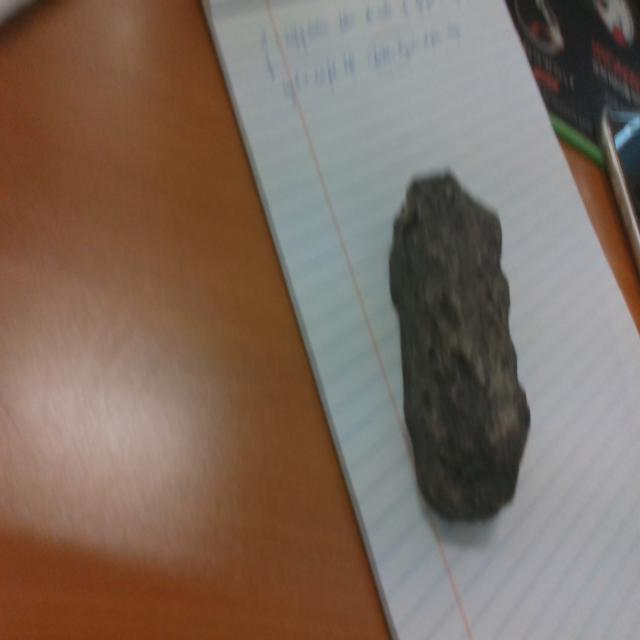stone: (388, 169, 530, 524)
